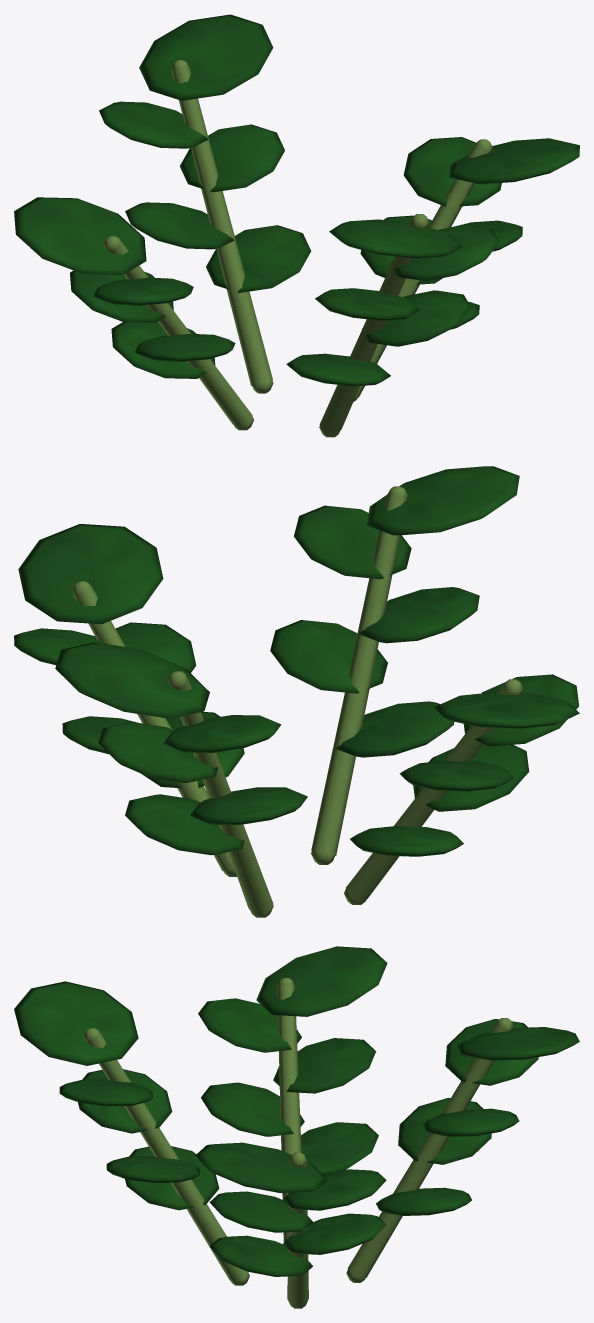
The model's file is Cress.glb.
3 renders of one model, top to bottom at view 1: azimuth 30°, elevation 25°; view 2: azimuth 150°, elevation 25°; view 3: azimuth 270°, elevation 25°, orthographic. The views are drawn at different scales.
Parts seen in each view (by area): view 1: CressLeaves, CressStems; view 2: CressLeaves, CressStems; view 3: CressLeaves, CressStems.
Boxes of the visible parts, x1,y1,x2,y2 form: CressLeaves: (14,14,579,386); CressStems: (103,60,492,437); CressLeaves: (14,466,579,856); CressStems: (72,486,523,917); CressLeaves: (14,946,579,1276); CressStems: (83,978,513,1308).
Size of the model in its own units: 0.1145 by 0.0604 by 0.115.
